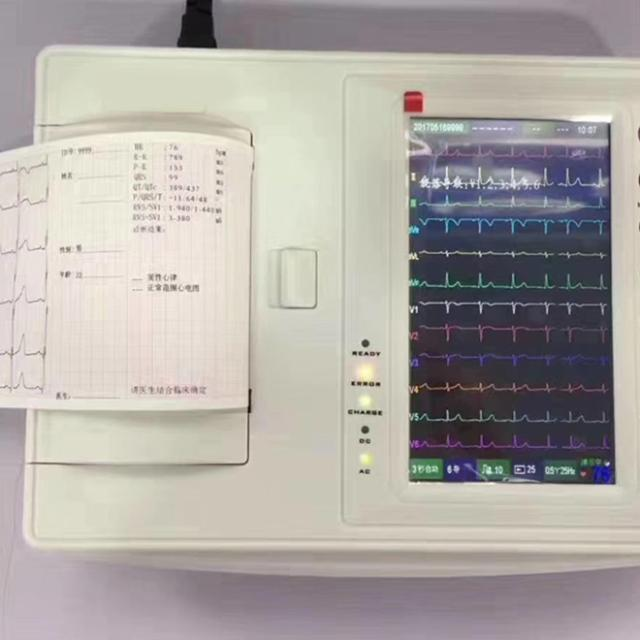Monitor: (5, 41, 638, 578)
